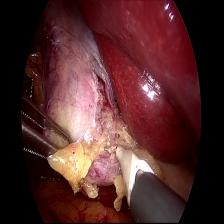Grasper: (20, 96, 74, 170)
Hook: (104, 144, 153, 199)
